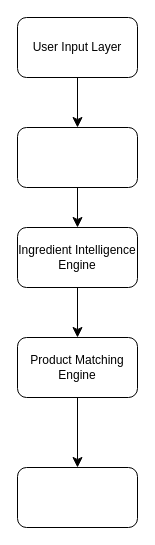
The diagram is 155 pixels wide and 545 high, and some of its shapes have lost their labels. Each missing label, with the centre of its shape:
Optimization Engine: point 77,497
User Profiling Engine: point 77,157
